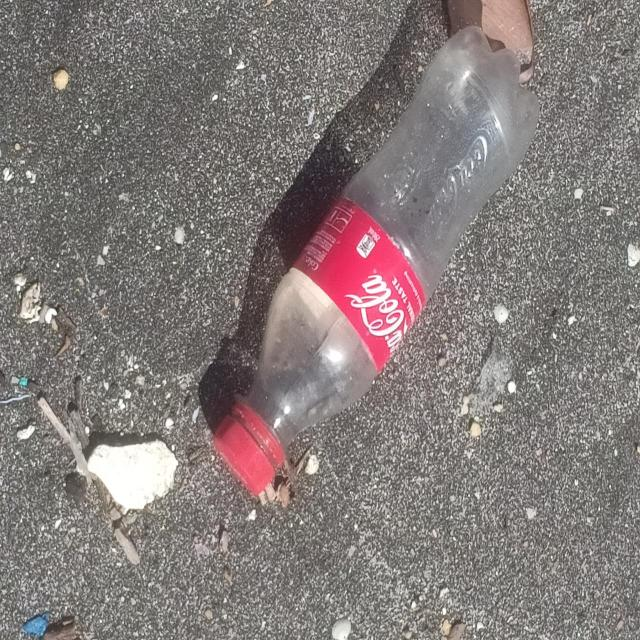plastic_waste: (214, 27, 543, 499)
